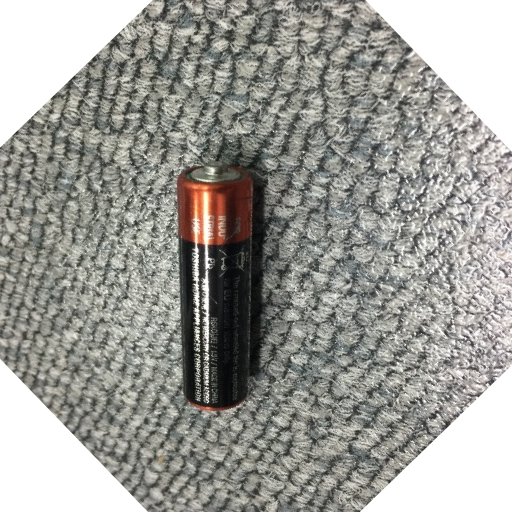Battery_0: (161, 151, 274, 425)
